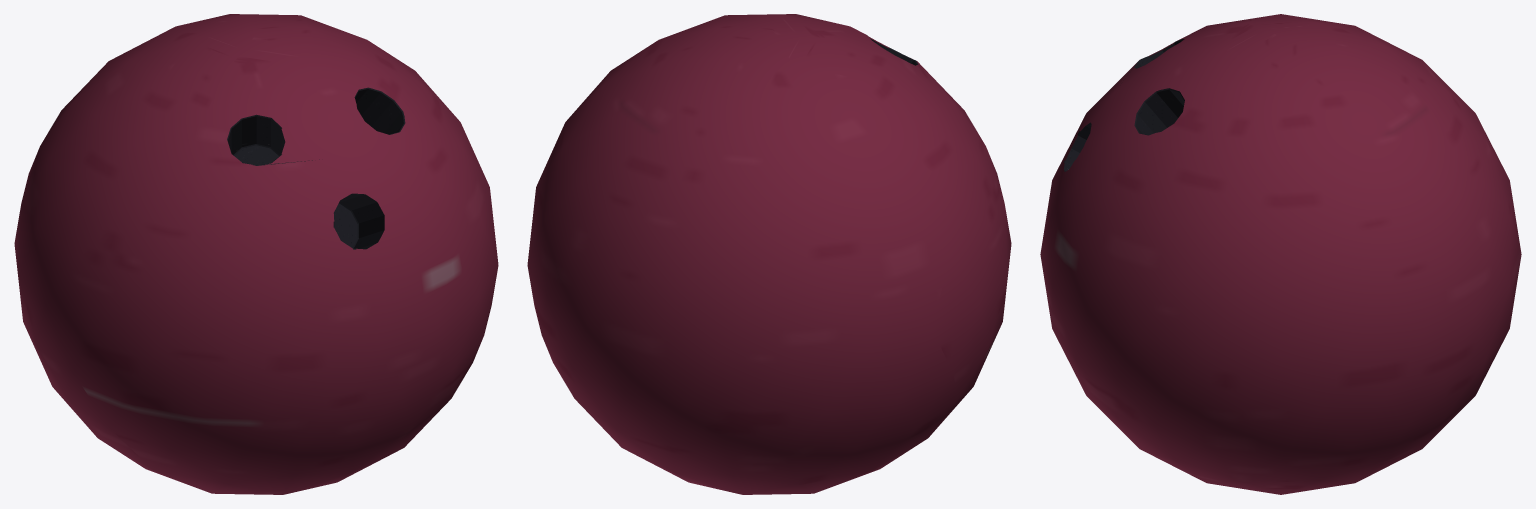
The model's file is bowling_ball_burgundy.glb.
The picture shows the model from 3 angles, left to right: view 1: azimuth 30°, elevation 25°; view 2: azimuth 150°, elevation 25°; view 3: azimuth 270°, elevation 25°; orthographic projection.
Visible parts, largest first — view 1: arcade_bowling_ball_burgundy; view 2: arcade_bowling_ball_burgundy; view 3: arcade_bowling_ball_burgundy.
Part boxes in pixels (x1,y1,x2,y2): arcade_bowling_ball_burgundy: [14, 14, 498, 494]; arcade_bowling_ball_burgundy: [527, 14, 1011, 494]; arcade_bowling_ball_burgundy: [1040, 14, 1521, 494].
Size of the model in its own units: 0.216 by 0.216 by 0.216.
1 material, 1 textured.
